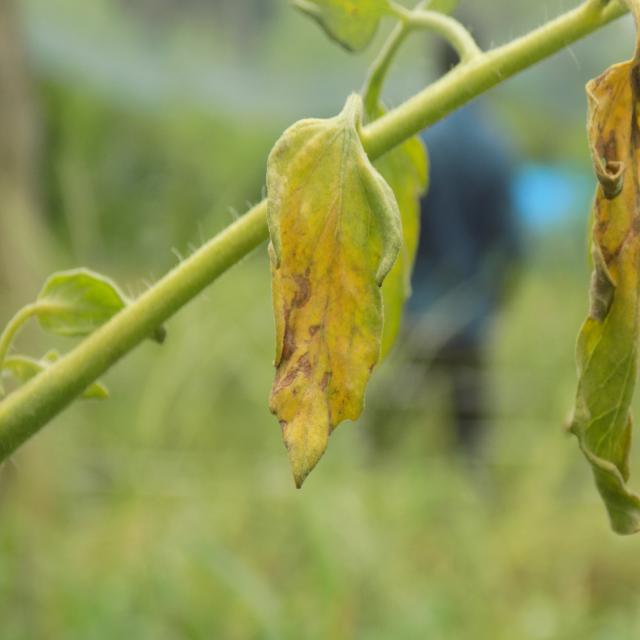tomato_early blight: (270, 101, 400, 502)
